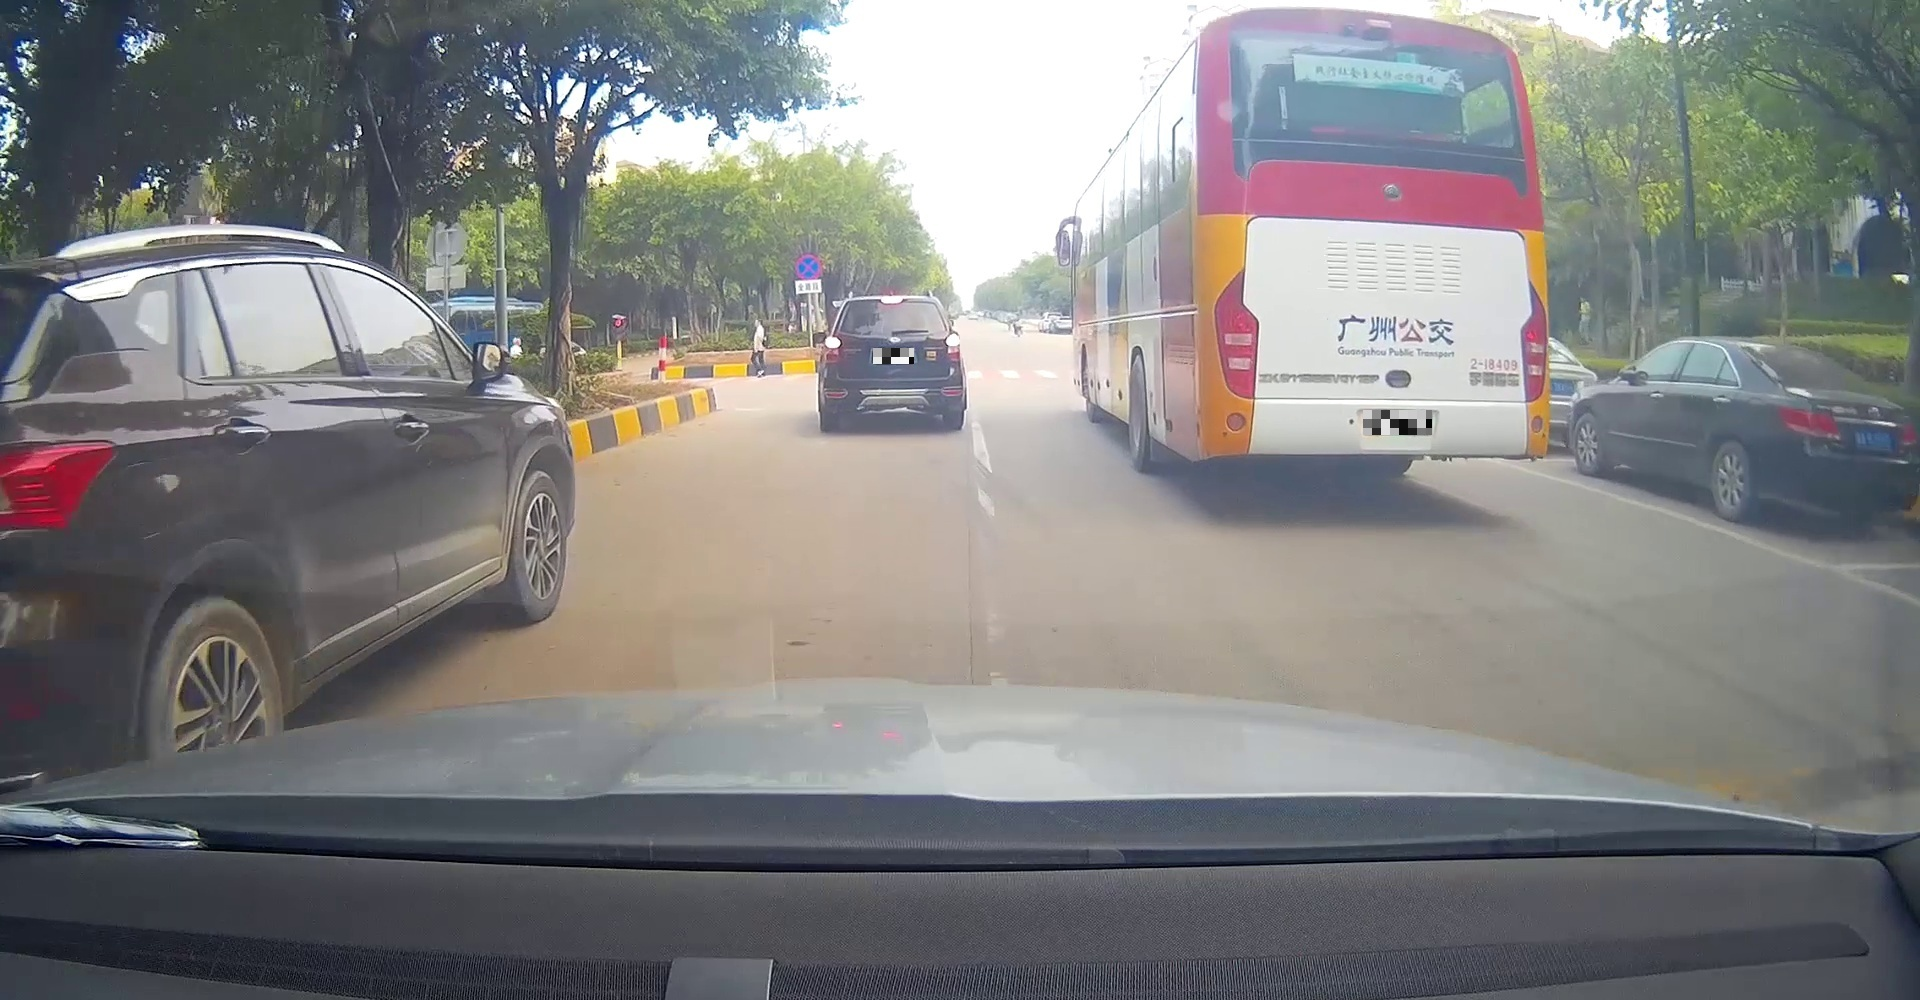L_light: (1211, 268, 1258, 401), (1777, 405, 1843, 442), (824, 336, 842, 363)
R_light: (1520, 279, 1548, 402), (945, 332, 961, 362), (1901, 423, 1917, 445)
T_light: (1357, 18, 1393, 36), (879, 294, 904, 305), (1785, 345, 1808, 353)
day-brake: (822, 291, 963, 430)
day-no: (1196, 8, 1548, 480), (1730, 338, 1917, 527)
plate_1: (872, 348, 914, 364)
plate_2: (1363, 410, 1432, 435)
